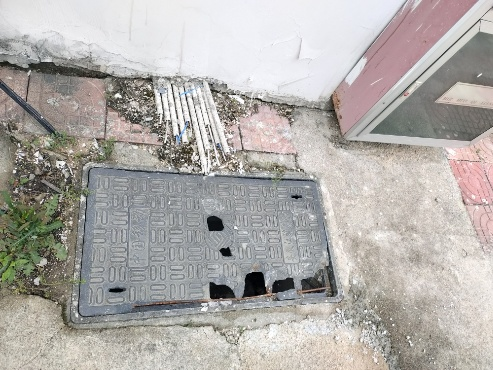broke: (71, 159, 344, 324)
